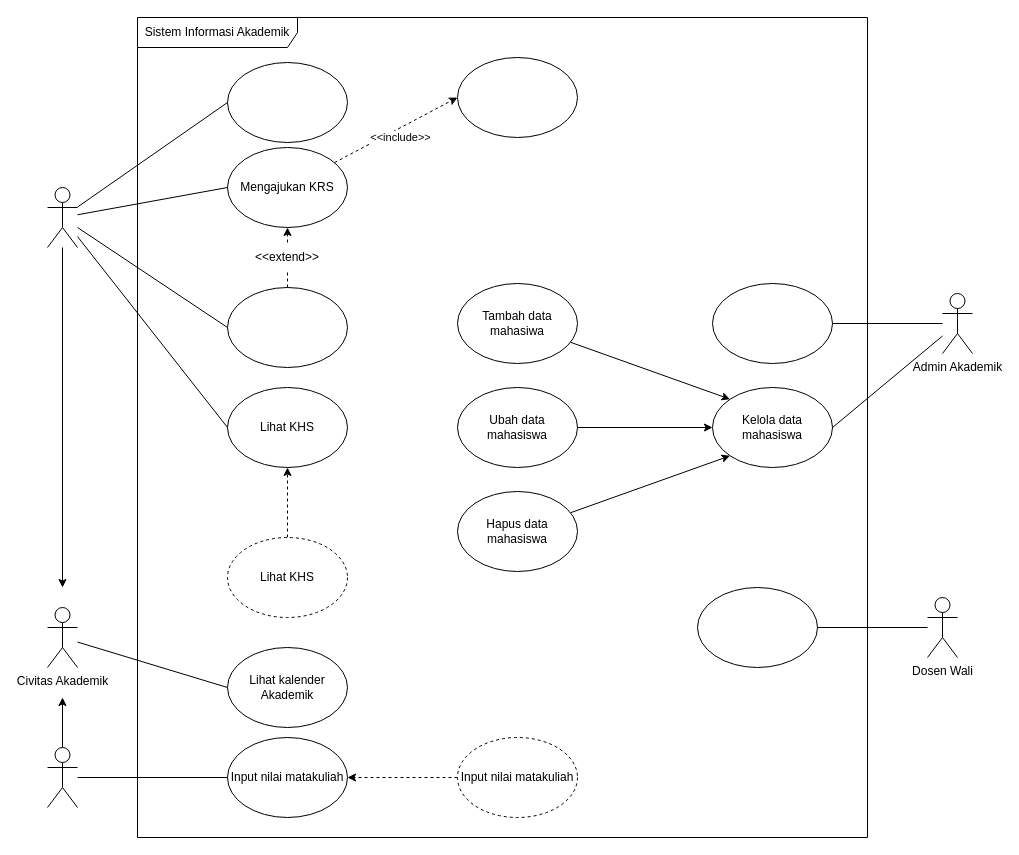
Image size: 1019x855. Some labels were removed from this diagram. Each missing label, with the box of its shape:
Dosen: (46, 746, 78, 808)
Lihat jadwal kuliah: (226, 62, 348, 142)
Mahasiswa: (46, 186, 78, 248)
Memproses Keputusan KRS: (696, 586, 818, 668)
Mengelola Jadwal Kuliah: (712, 282, 832, 364)
Mengunduh bukti pengajuan: (226, 286, 348, 368)
Validasi KRS: (456, 56, 578, 138)
